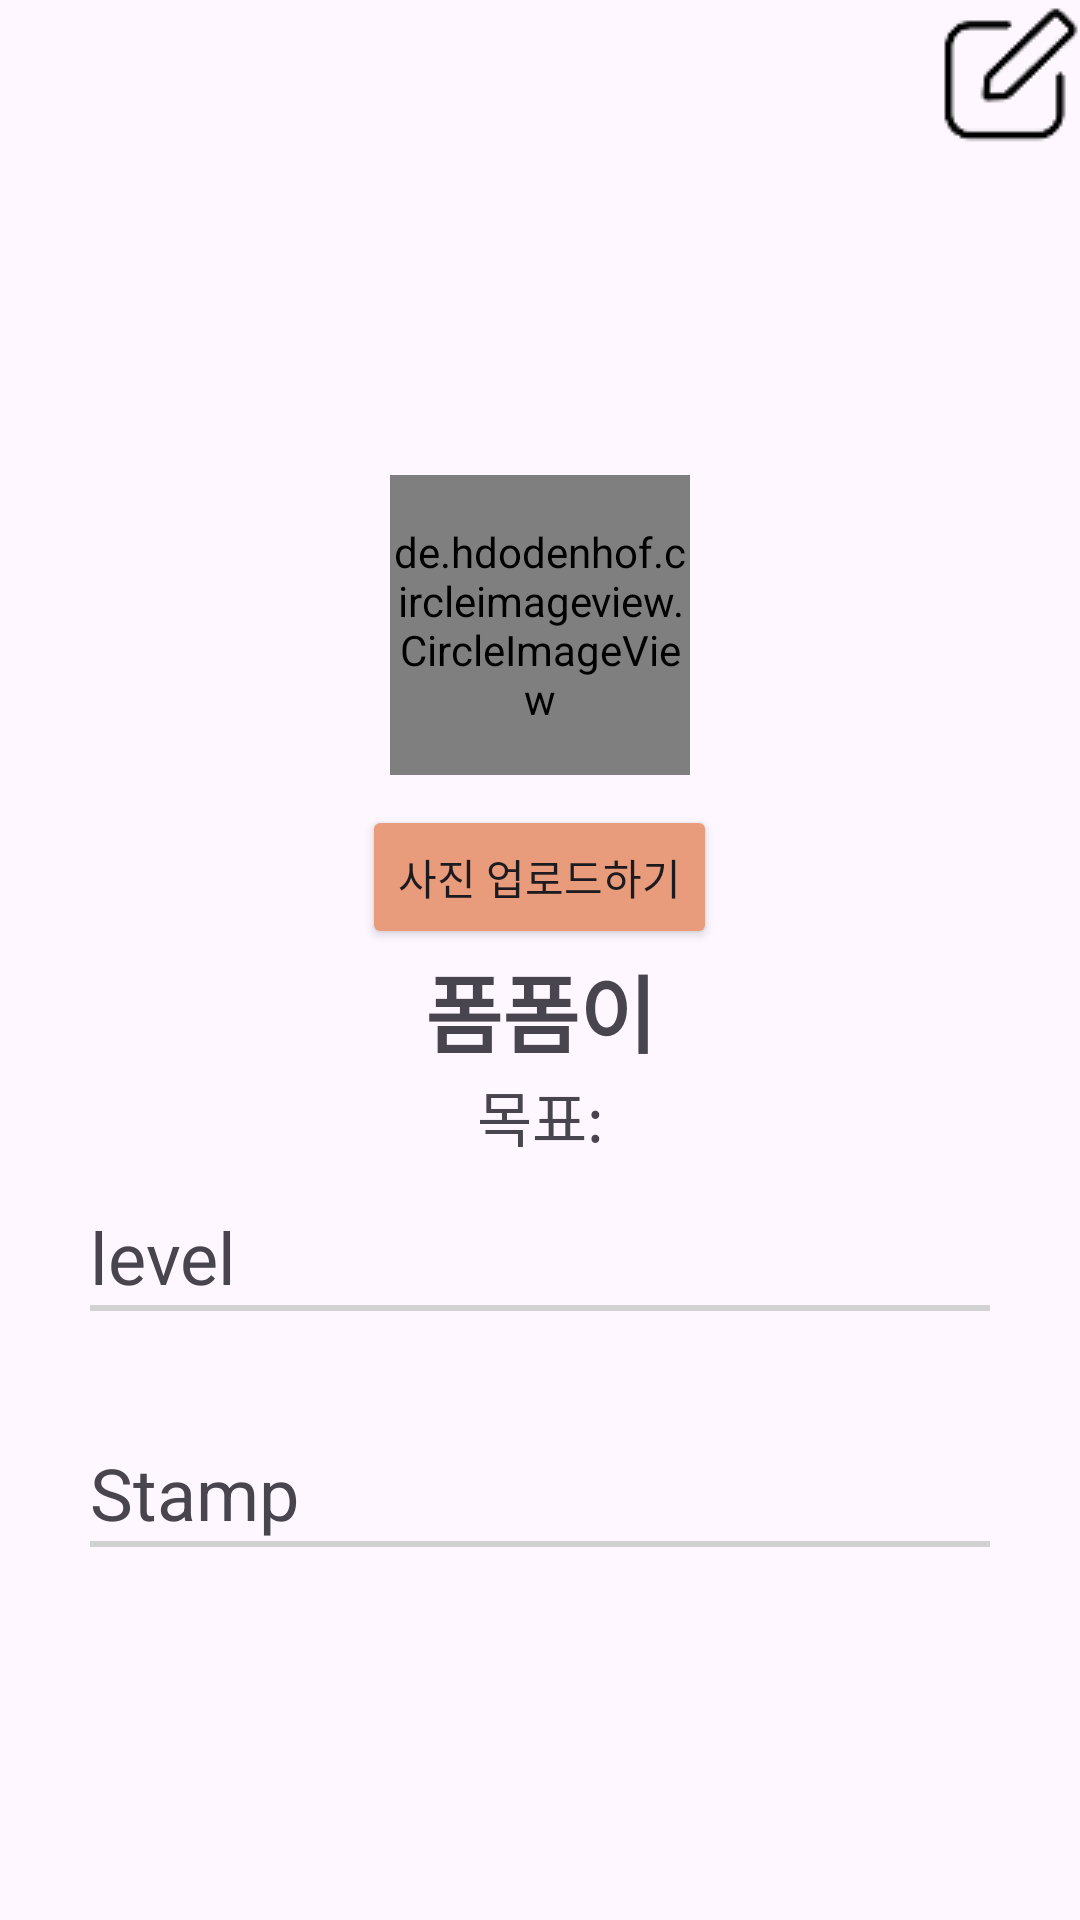

Named icons in this screenshot (1080px×1920px) and their centers, (x=x, y=y):
mypage edit fragment로 넘어감: (x=1011, y=74)
